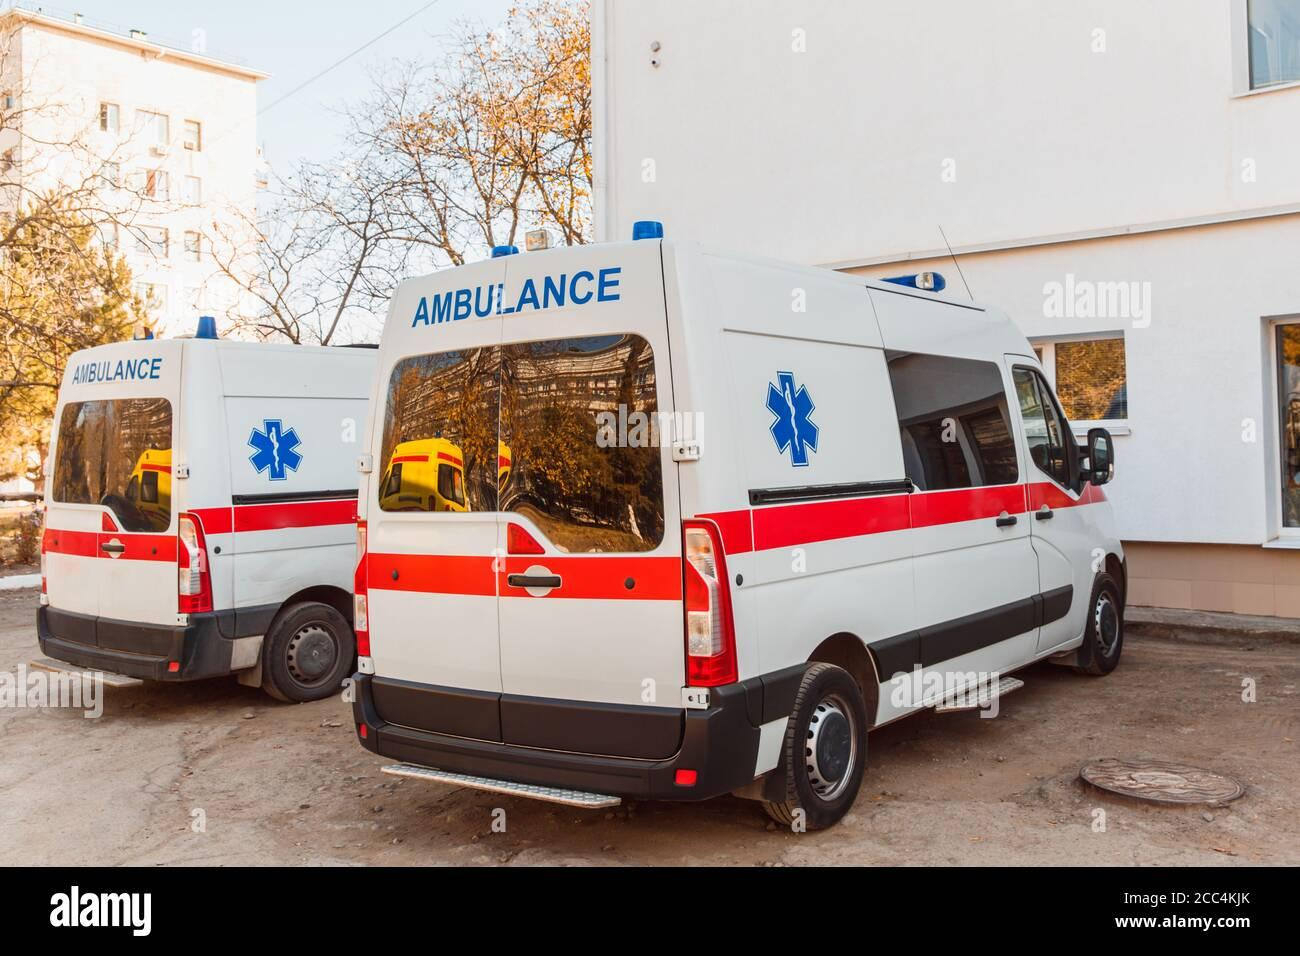ambulance_off: (354, 217, 1134, 833), (33, 314, 366, 703)
